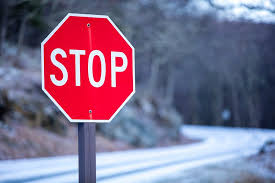stop sign: (39, 14, 135, 126)
